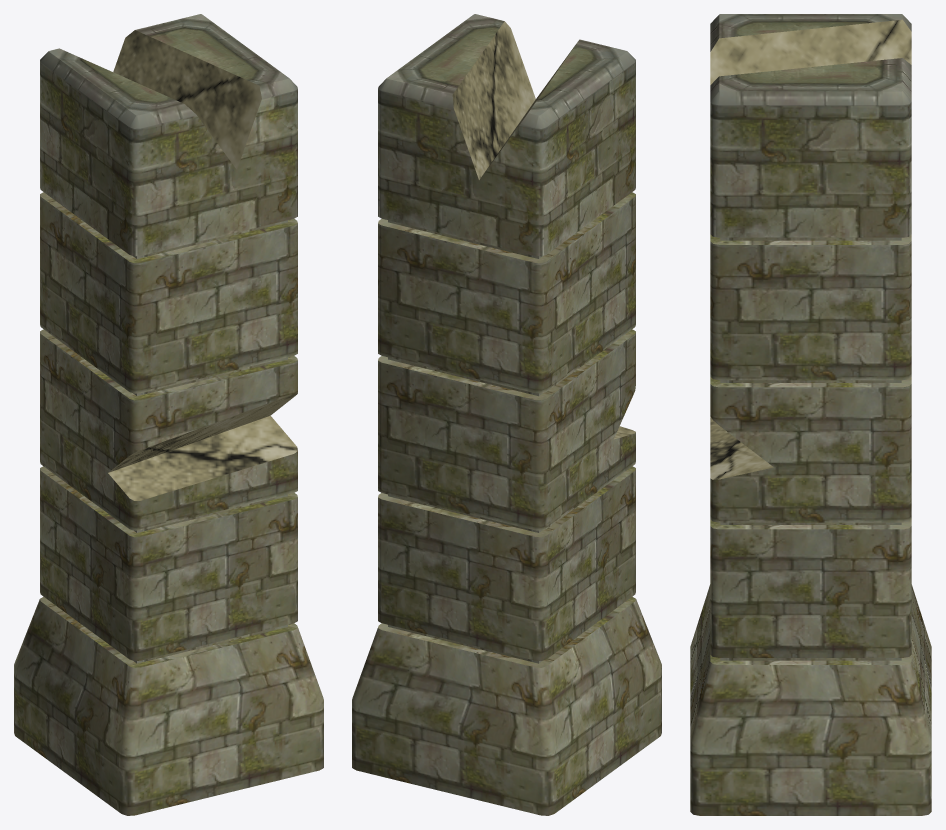
Rendered from colum-03.fbx.
3 views of the same model, side by side, from view 1: azimuth 30°, elevation 25°; view 2: azimuth 150°, elevation 25°; view 3: azimuth 270°, elevation 25° (orthographic). The views are drawn at different scales.
Parts seen in each view (by area): view 1: Cube.222; view 2: Cube.222; view 3: Cube.222.
Boxes of the visible parts, bbox=[...] form: Cube.222: bbox=[14, 14, 323, 815]; Cube.222: bbox=[352, 14, 661, 815]; Cube.222: bbox=[690, 14, 931, 815].
Size of the model in its own units: 0.768 by 2.5 by 0.768.
